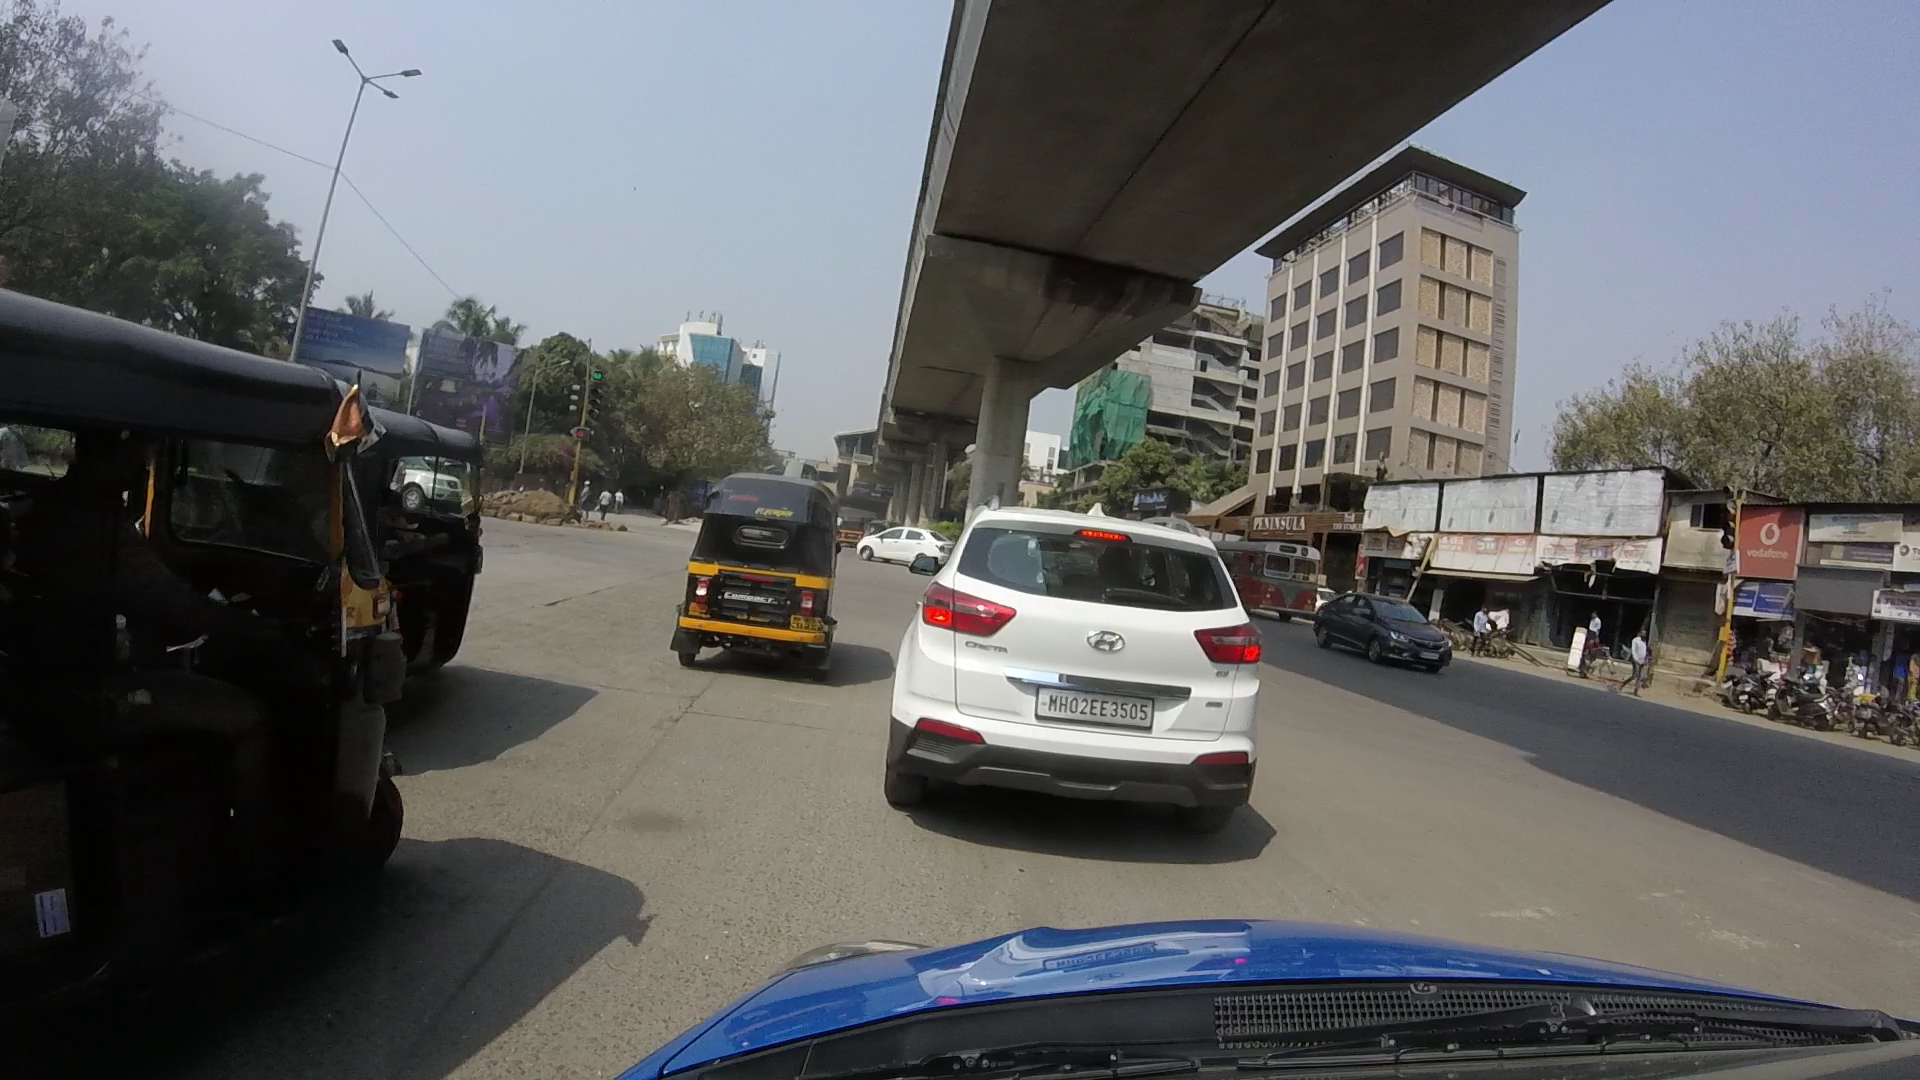bus: (1207, 504, 1336, 637)
car: (886, 481, 1265, 831), (1298, 560, 1468, 707), (851, 491, 960, 575)
rickshaw: (4, 287, 410, 1022), (640, 407, 877, 680), (357, 384, 556, 680)
